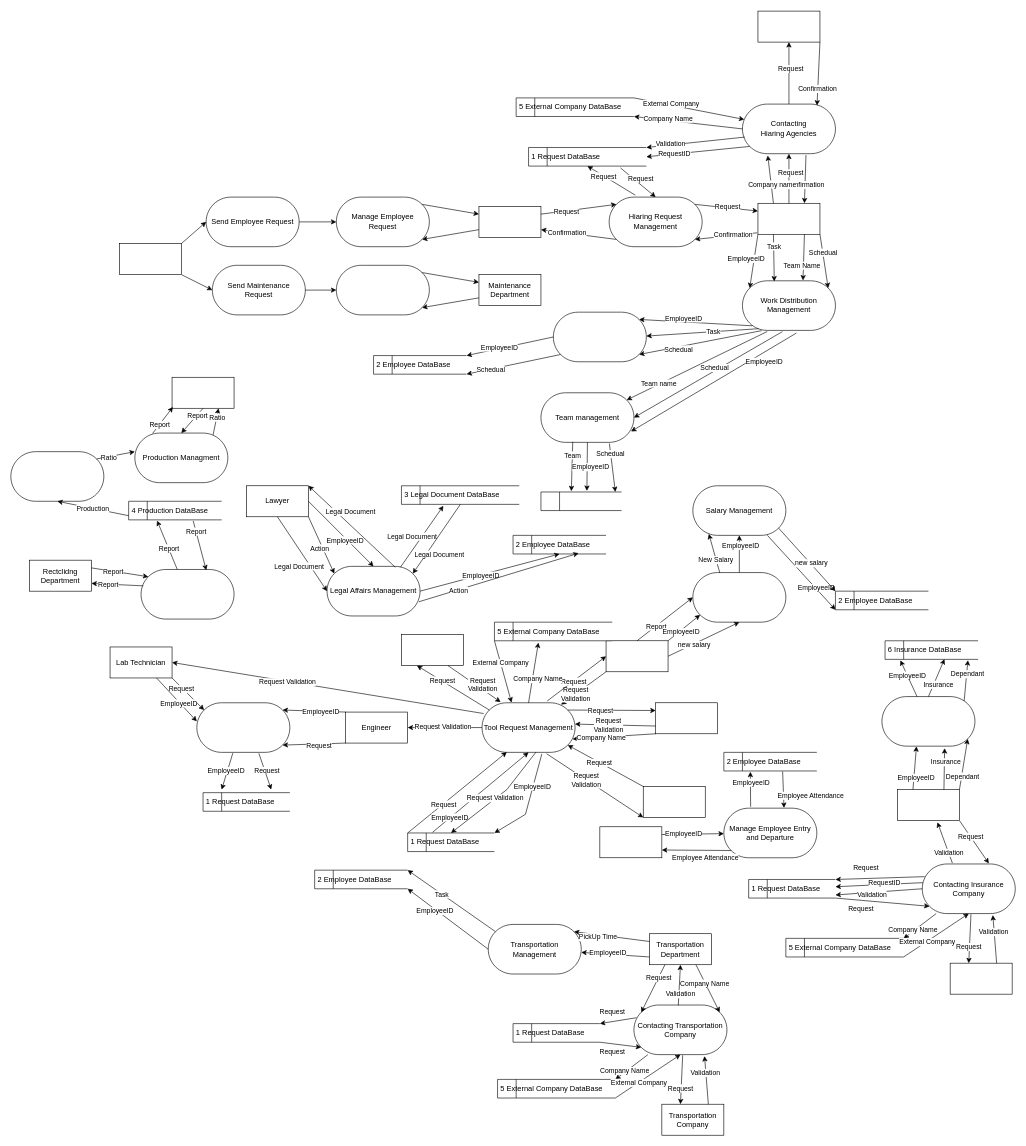
This 1026x1146 diagram has some shape labels left out. Here are the shapes that lost their labels. From the top down, the centre of each, then its label:
At [788,26]: "Hiring Agency".
At [509,221]: "Department".
At [788,218]: "HR Department".
At [150,259]: "Employee".
At [382,290]: "Manage Maintenance Request".
At [599,337]: "Task Management".
At [202,392]: "Production Department".
At [57,476]: "Compare Production TO Predicted".
At [581,501]: "3 Team DataBase".
At [187,594]: "Waste Management".
At [739,597]: "Company Finance Management".
At [432,650]: "Company Manager".
At [636,656]: "Financial Department".
At [243,727]: "Send Tool Request".
At [686,718]: "Industry Development Department".
At [928,721]: "Manage Employee Insurance".
At [674,801]: "Specialized Tool Company".
At [928,805]: "Insurance Department".
At [630,842]: "Time Controle Management Department".
At [981,978]: "Insurance Company".
